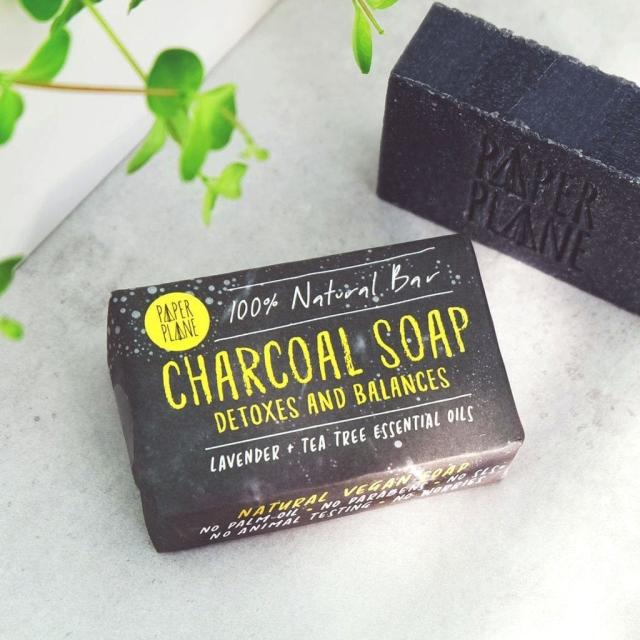soap: (98, 213, 500, 570)
